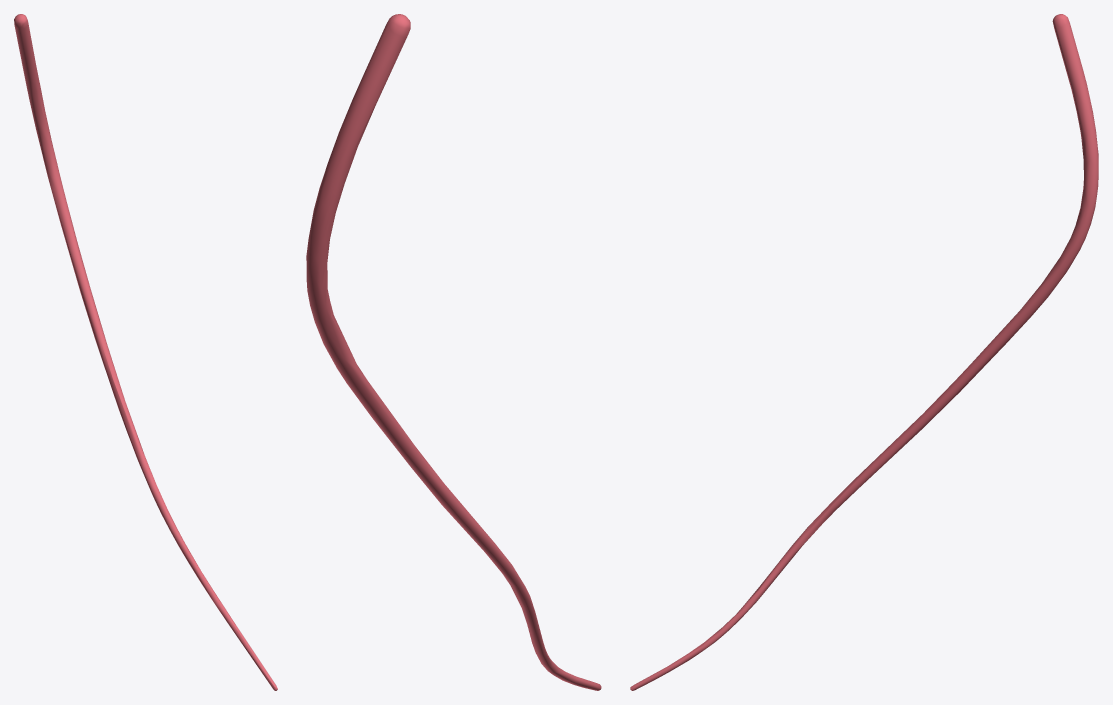
File: fma85101_fj2328.glb
The picture shows the model from 3 angles, left to right: view 1: azimuth 30°, elevation 25°; view 2: azimuth 150°, elevation 25°; view 3: azimuth 270°, elevation 25°; orthographic projection. The views are drawn at different scales.
Visible parts, largest first — view 1: FMA85101_FJ2328; view 2: FMA85101_FJ2328; view 3: FMA85101_FJ2328.
Part boxes in pixels (<box>): FMA85101_FJ2328: <box>14,14,277,690</box>; FMA85101_FJ2328: <box>306,14,601,690</box>; FMA85101_FJ2328: <box>630,14,1098,690</box>.
Size of the model in its own units: 0.0087 by 0.0608 by 0.0405.
